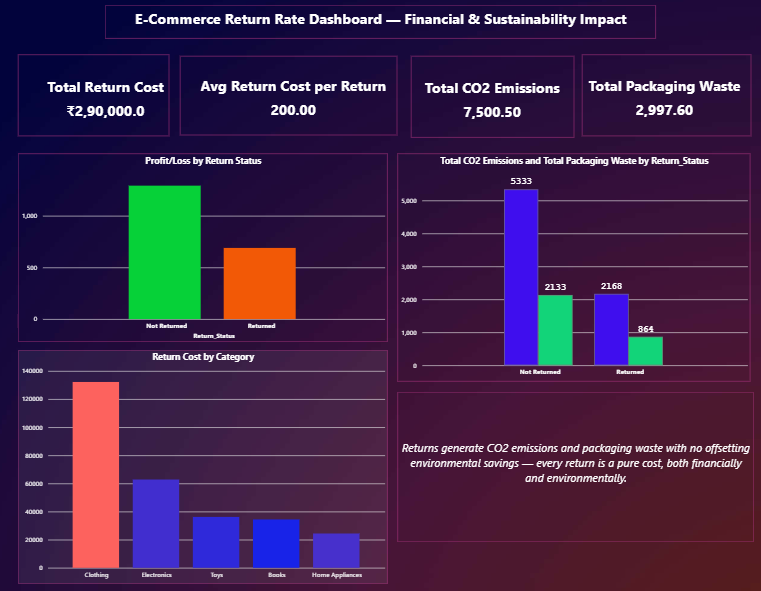

The dashboard page shown, as its layout file describes it:
{"tool":"powerbi","page":{"name":"Financial & Sustainability","canvas":[1280,1000],"ordinal":3},"visuals":[{"type":"textbox","box":[179.3,13.9,918.2,55.8],"z":0},{"type":"columnChart","title":"Return Cost by Category","fields":{"Category":["Orders.Product_Category"],"Y":["Sum(Orders.Return_Cost)"]},"box":[36,590,616,390],"z":1000},{"type":"shape","box":[36,98,252,136],"z":2000},{"type":"shape","box":[306,100,362,132],"z":3000},{"type":"shape","box":[690,100,272,136],"z":4000},{"type":"cardVisual","fields":{"Data":["Orders.Total Return Cost"]},"box":[54,120,252.5,100],"z":5000},{"type":"cardVisual","fields":{"Data":["Discount_Groups.Avg Return Cost per Return"]},"box":[320,114,348,106],"z":6000},{"type":"cardVisual","fields":{"Data":["Discount_Groups.Total CO2 Emissions"]},"box":[678,114,296,114],"z":7000},{"type":"columnChart","title":"Profit/Loss by Return Status","fields":{"Category":["Orders.Return_Status"],"Y":["Avg(Orders.Profit_Loss)"]},"box":[36,262,616,314],"z":9000},{"type":"clusteredColumnChart","fields":{"Category":["Orders.Return_Status"],"Y":["Discount_Groups.Total CO2 Emissions","Discount_Groups.Total Packaging Waste"]},"box":[668,262,588,380],"z":10000},{"type":"shape","box":[974,98,282,136],"z":10001},{"type":"cardVisual","fields":{"Data":["Discount_Groups.Total Packaging Waste"]},"box":[962,108,300,120],"z":10002},{"type":"textbox","box":[668,660,594,250],"z":10003}]}

Visuals, with their boxes in screenshot pixels (x1, y1, x2, y2), scaled from the page's 1280x1000 canvas onto the 761x591 screenshot:
textbox: detection(107, 8, 652, 41)
"Return Cost by Category" columnChart: detection(21, 349, 388, 579)
shape: detection(21, 58, 171, 138)
shape: detection(182, 59, 397, 137)
shape: detection(410, 59, 572, 139)
cardVisual - Orders.Total Return Cost: detection(32, 71, 182, 130)
cardVisual - Discount_Groups.Avg Return Cost per Return: detection(190, 67, 397, 130)
cardVisual - Discount_Groups.Total CO2 Emissions: detection(403, 67, 579, 135)
"Profit/Loss by Return Status" columnChart: detection(21, 155, 388, 340)
clusteredColumnChart - Orders.Return_Status x Discount_Groups.Total CO2 Emissions: detection(397, 155, 747, 379)
shape: detection(579, 58, 747, 138)
cardVisual - Discount_Groups.Total Packaging Waste: detection(572, 64, 750, 135)
textbox: detection(397, 390, 750, 538)
